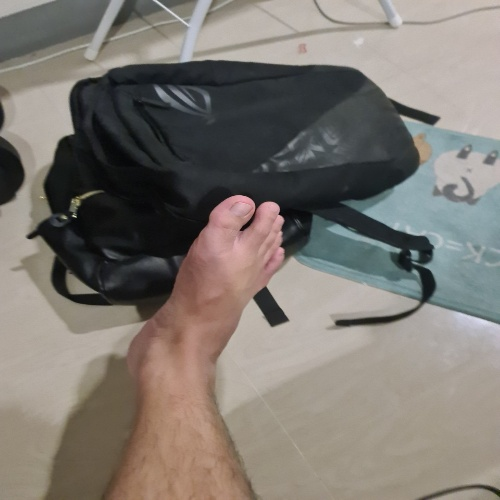3: (209, 196, 254, 243)
4: (127, 327, 154, 373)
Top_Foot: (127, 196, 286, 373)
